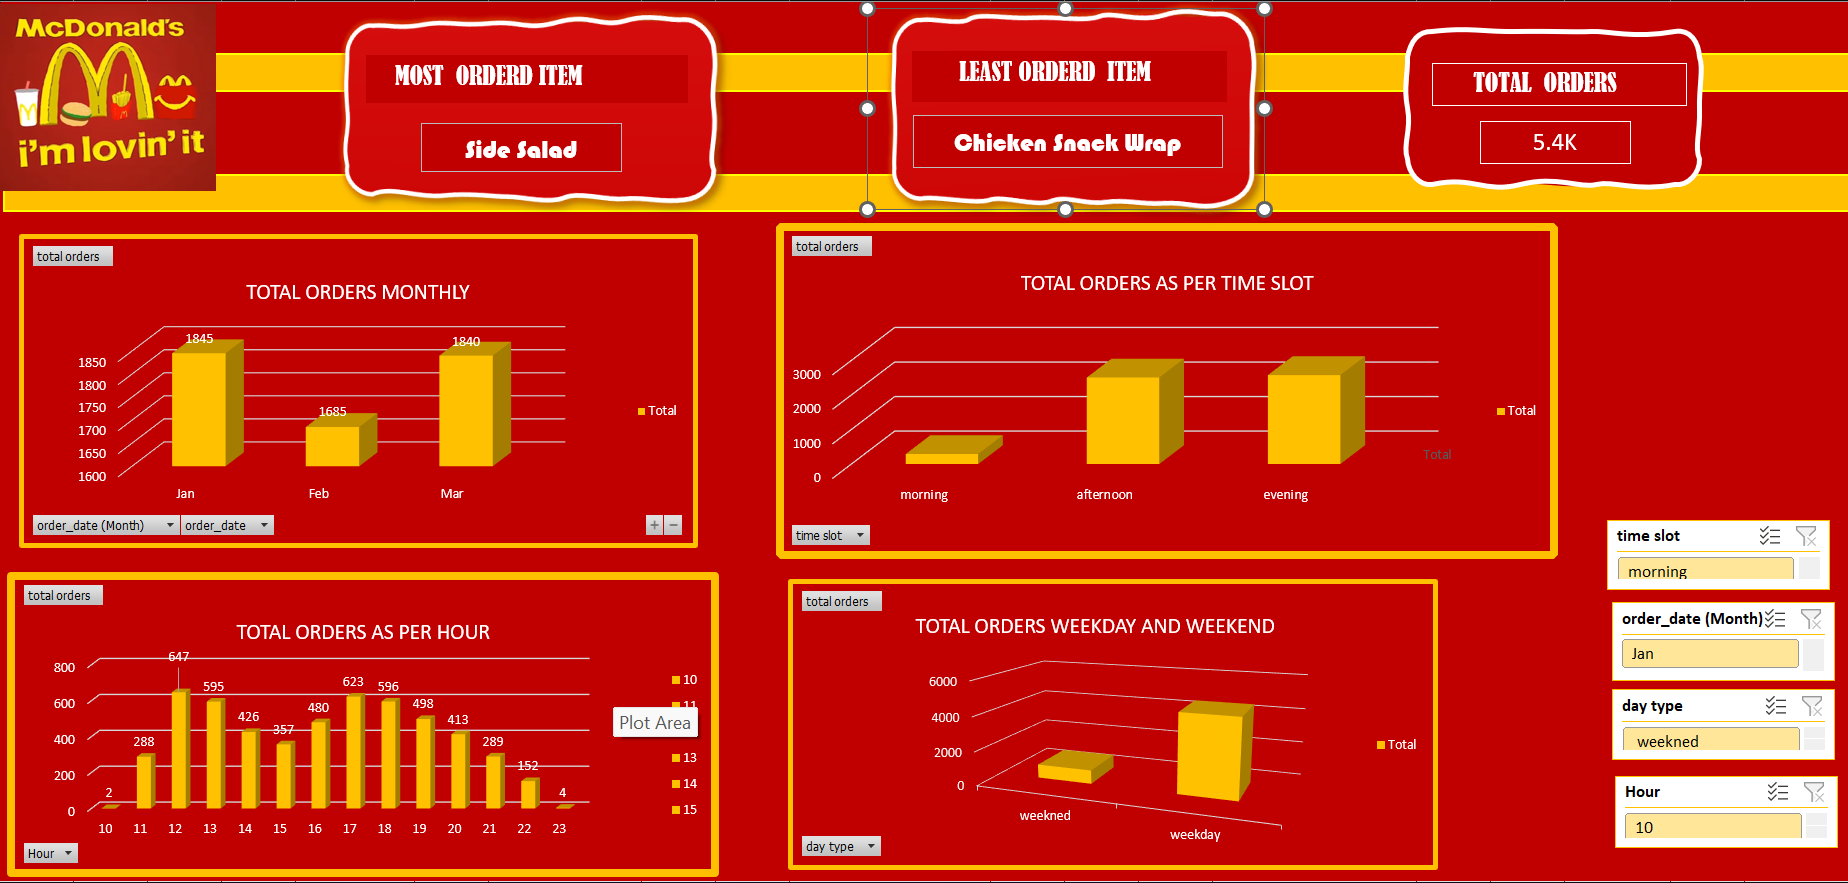

The dashboard page shown, as its layout file describes it:
{"tool":"powerbi","page":{"name":"order behavior dashboard","canvas":[1280,720],"ordinal":2},"visuals":[{"type":"textbox","box":[0,13.3,1280,73.3],"z":0},{"type":"cardVisual","fields":{"Data":["measure Table.Max Orders in a Day"]},"box":[717.4,103.1,194.9,80.5],"z":1000},{"type":"columnChart","title":"Hourly Order Trends","fields":{"Category":["order details.Hour"],"Y":["measure Table.Total Orders"]},"box":[112.9,185,617.3,239.5],"z":2000},{"type":"columnChart","title":"Orders by Time of Day","fields":{"Category":["order details.time slot"],"Y":["measure Table.Total Orders"]},"box":[771.2,195.1,439.4,228.3],"z":3000},{"type":"barChart","title":"Monthly Order Volume","fields":{"Category":["order details.Month Name"],"Y":["measure Table.Total Orders"]},"box":[651.7,451.3,520.3,204.4],"z":4000},{"type":"donutChart","title":"Weekday vs Weekend Orders","fields":{"Category":["order details.weekday/weekend"],"Y":["measure Table.Total Orders"]},"box":[169.9,438,448.6,207.1],"z":5000},{"type":"cardVisual","fields":{"Data":["measure Table.Weekday Orders"]},"box":[96,108.7,179.4,73.4],"z":6000},{"type":"cardVisual","fields":{"Data":["measure Table.Weekend Orders"]},"box":[290.9,108.7,169.5,74.9],"z":7000},{"type":"cardVisual","fields":{"Data":["measure Table.Top Selling Item by orders"]},"box":[473.1,103.1,227.4,80.5],"z":8000},{"type":"slicer","fields":{"Values":["order details.time slot"]},"box":[911.9,81,142,63.7],"z":9000},{"type":"slicer","fields":{"Values":["order details.weekday/weekend"]},"box":[984.8,158.2,186.9,62.3],"z":10000},{"type":"slicer","fields":{"Values":["order details.Month Name"]},"box":[1089.7,86.3,143.4,54.4],"z":11000}]}

Visuals, with their boxes on the page's 1280x720 design canvas (x1, y1, x2, y2). These are canvas units, not pixel positions in the 1848x883 screenshot, which may show the page scaled, cropped or inside an application window:
textbox: (0,13,1280,87)
cardVisual - measure Table.Max Orders in a Day: (717,103,912,184)
"Hourly Order Trends" columnChart: (113,185,730,424)
"Orders by Time of Day" columnChart: (771,195,1211,423)
"Monthly Order Volume" barChart: (652,451,1172,656)
"Weekday vs Weekend Orders" donutChart: (170,438,618,645)
cardVisual - measure Table.Weekday Orders: (96,109,275,182)
cardVisual - measure Table.Weekend Orders: (291,109,460,184)
cardVisual - measure Table.Top Selling Item by orders: (473,103,700,184)
slicer - order details.time slot: (912,81,1054,145)
slicer - order details.weekday/weekend: (985,158,1172,220)
slicer - order details.Month Name: (1090,86,1233,141)
